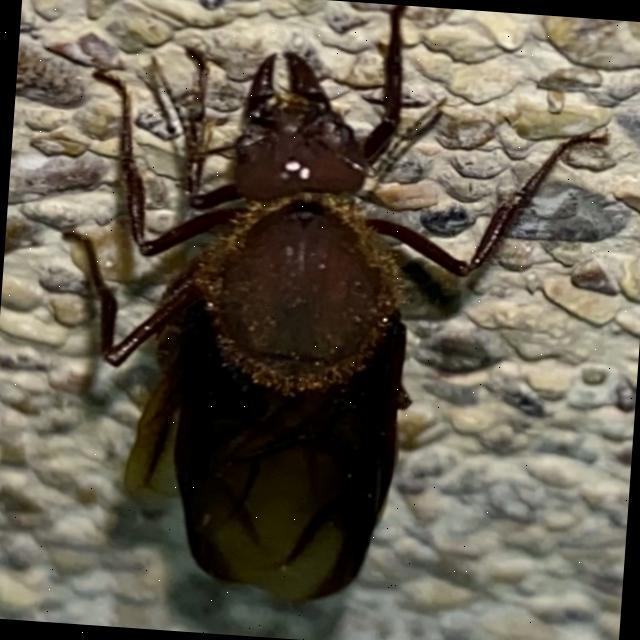Alive-Female-Alate: (37, 0, 617, 624)
